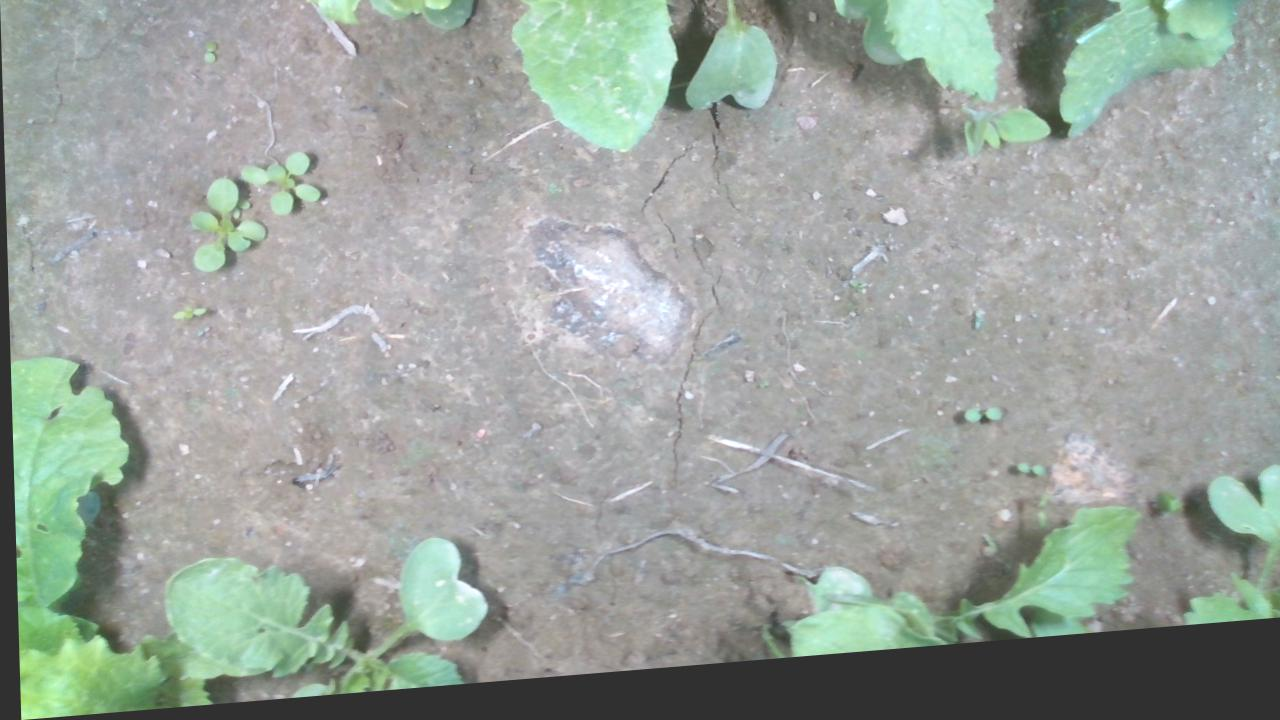weed: (164, 303, 206, 326), (957, 419, 1002, 440), (1011, 475, 1043, 494), (201, 40, 218, 68), (188, 326, 208, 342)
